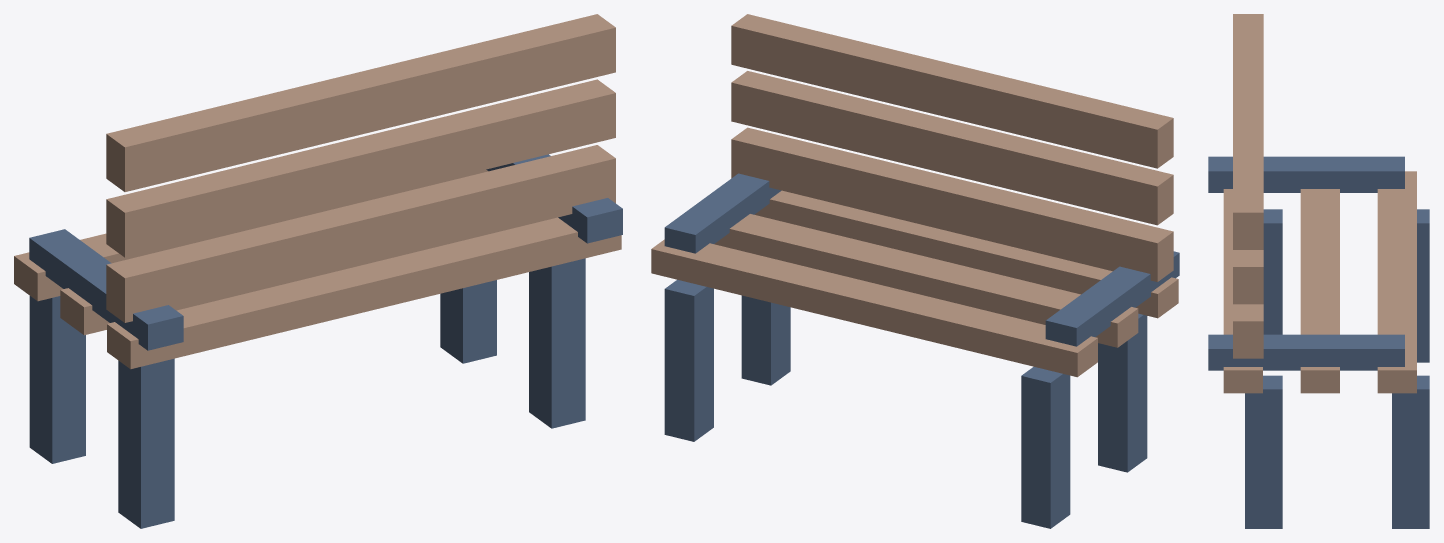
The model's file is park_bench.glb.
3 renders of one model, left to right at view 1: azimuth 30°, elevation 25°; view 2: azimuth 150°, elevation 25°; view 3: azimuth 270°, elevation 25°, orthographic. The views are drawn at different scales.
Parts seen in each view (by area): view 1: park_bench; view 2: park_bench; view 3: park_bench.
Part boxes in pixels (left/top/right/bottom): park_bench: left=14, top=14, right=622, bottom=528; park_bench: left=651, top=14, right=1179, bottom=528; park_bench: left=1208, top=14, right=1429, bottom=528.
Size of the model in its own units: 2.75 by 2.1 by 1.3.
